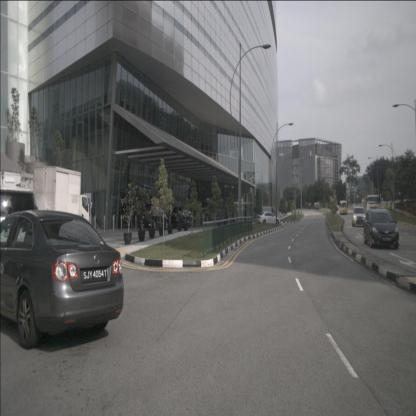vehicle-bus-rigid: (340, 200, 348, 214)
vehicle-car: (0, 209, 124, 350), (0, 186, 38, 286), (364, 209, 399, 250), (138, 204, 169, 230), (170, 206, 194, 228), (256, 211, 280, 225), (352, 206, 366, 227), (139, 184, 151, 194), (314, 202, 319, 210)
vehicle-truck: (33, 166, 89, 240), (364, 195, 379, 220)
